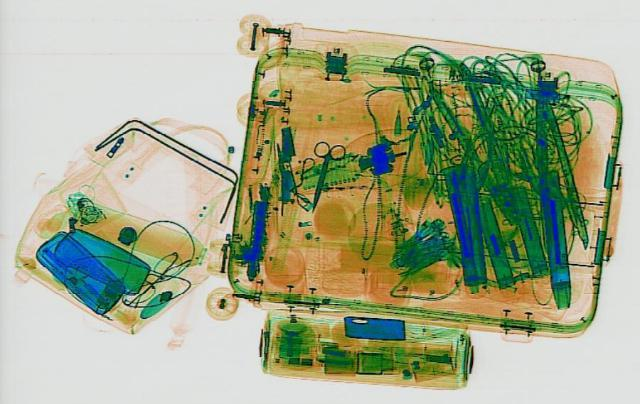Scissors: (294, 138, 350, 212)
